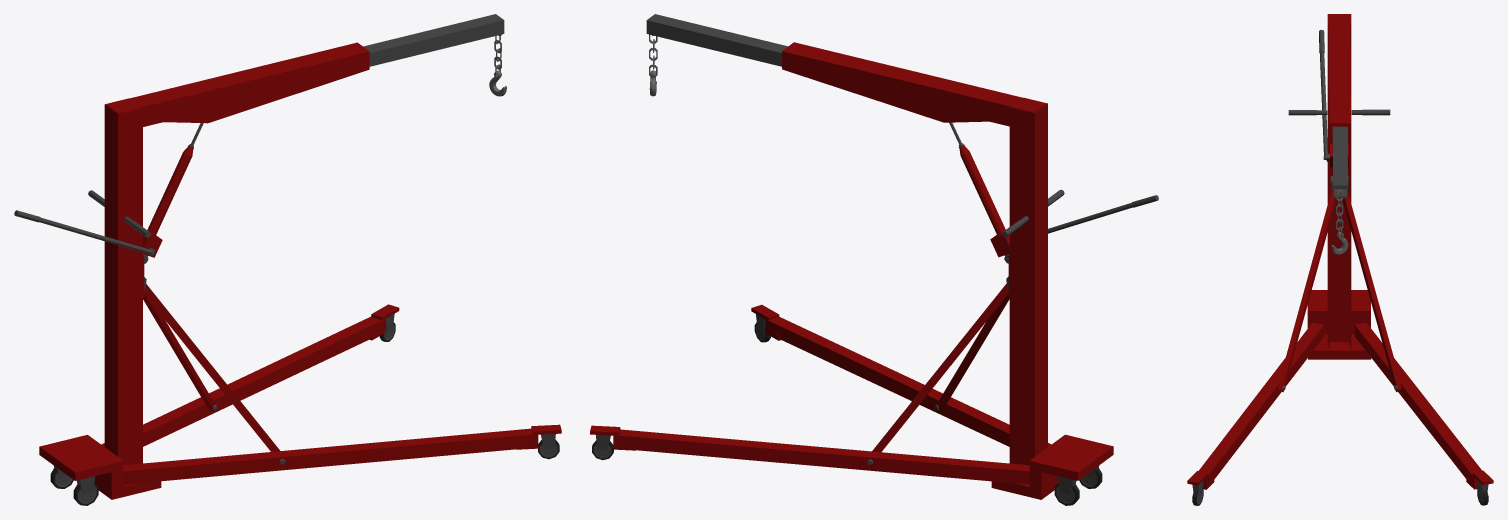
The model's file is LP_Crane.fbx.
3 views of the same model, side by side, from view 1: azimuth 30°, elevation 25°; view 2: azimuth 150°, elevation 25°; view 3: azimuth 270°, elevation 25° (orthographic). The views are drawn at different scales.
Parts seen in each view (by area): view 1: LP_Crane; view 2: LP_Crane; view 3: LP_Crane.
Part boxes in pixels (x1=…): LP_Crane: x1=14, y1=14, x2=561, y2=505; LP_Crane: x1=590, y1=14, x2=1158, y2=505; LP_Crane: x1=1187, y1=14, x2=1493, y2=505.
Bounding box in the file's own units: 2.77 × 2.01 × 1.66.
